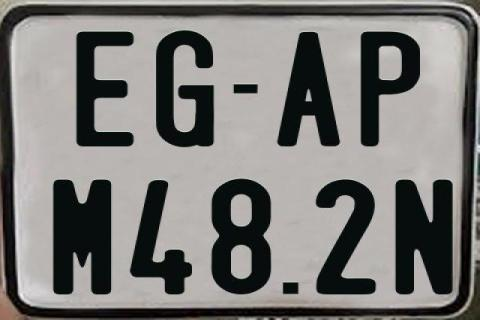0: (127, 178, 192, 296), (208, 178, 268, 298), (314, 178, 374, 298)
A: (275, 31, 342, 146)
E: (74, 30, 136, 148)
G: (155, 29, 213, 149)
M: (53, 177, 112, 295)
N: (395, 177, 455, 293)
P: (359, 31, 423, 148)
